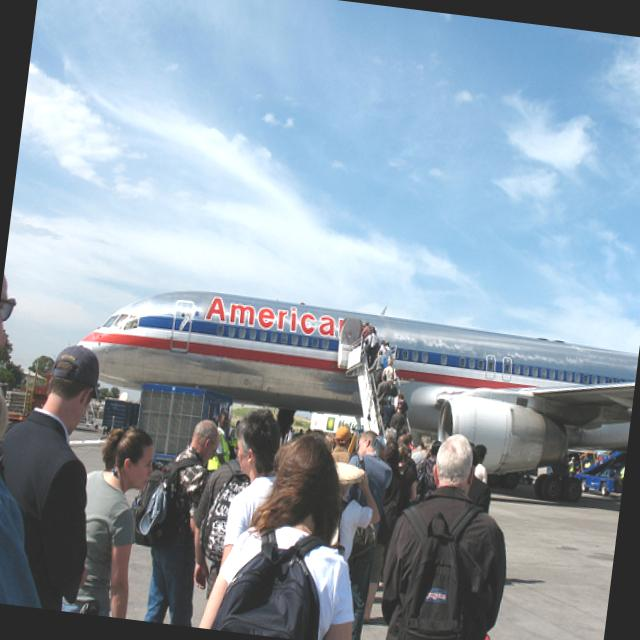Vehicle: (573, 446, 626, 498)
